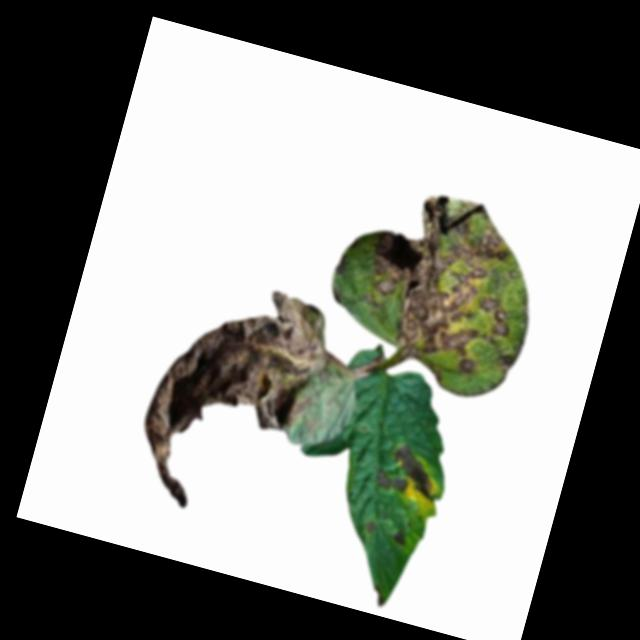Early_blight: (123, 266, 348, 538), (345, 177, 559, 391), (368, 438, 448, 508), (389, 529, 407, 548), (359, 519, 377, 537)
